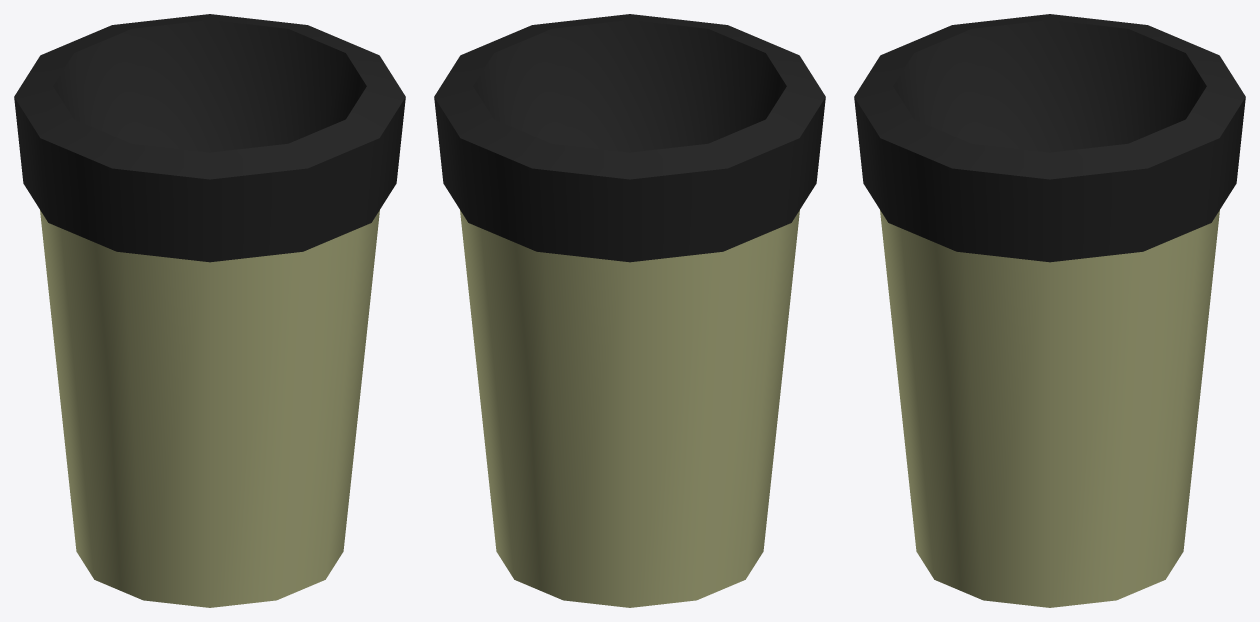
File: trash_can.fbx
The picture shows the model from 3 angles, left to right: view 1: azimuth 30°, elevation 25°; view 2: azimuth 150°, elevation 25°; view 3: azimuth 270°, elevation 25°; orthographic projection.
Parts seen in each view (by area): view 1: trash_can; view 2: trash_can; view 3: trash_can.
Boxes of the visible parts, bbox=[...] form: trash_can: bbox=[14, 14, 405, 607]; trash_can: bbox=[434, 14, 825, 607]; trash_can: bbox=[854, 14, 1245, 607].
Bounding box in the file's own units: 11.42 × 11.42 × 14.96.
